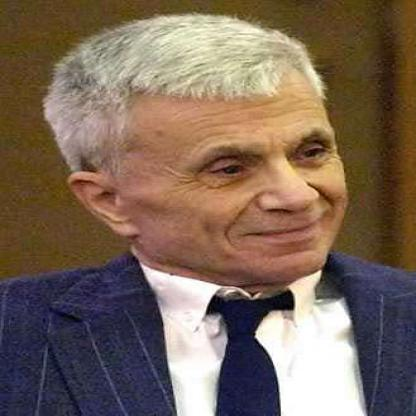face: (108, 21, 356, 292)
